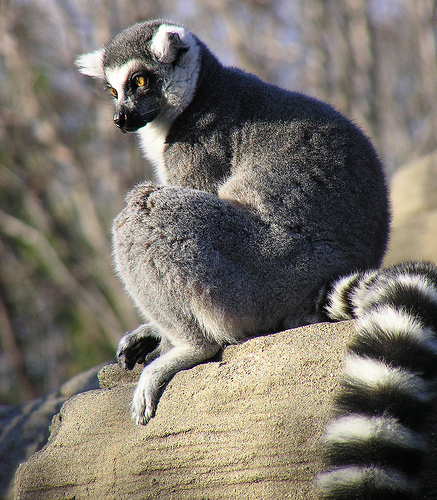cat: (70, 13, 435, 498)
